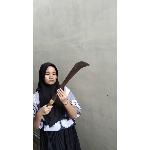Golok: (48, 60, 92, 109)
